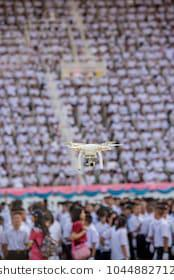drone: (61, 127, 128, 179)
